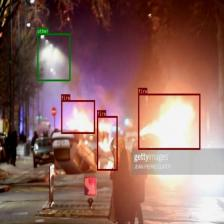fire: (138, 94, 200, 150), (60, 100, 94, 134), (97, 116, 118, 170)
